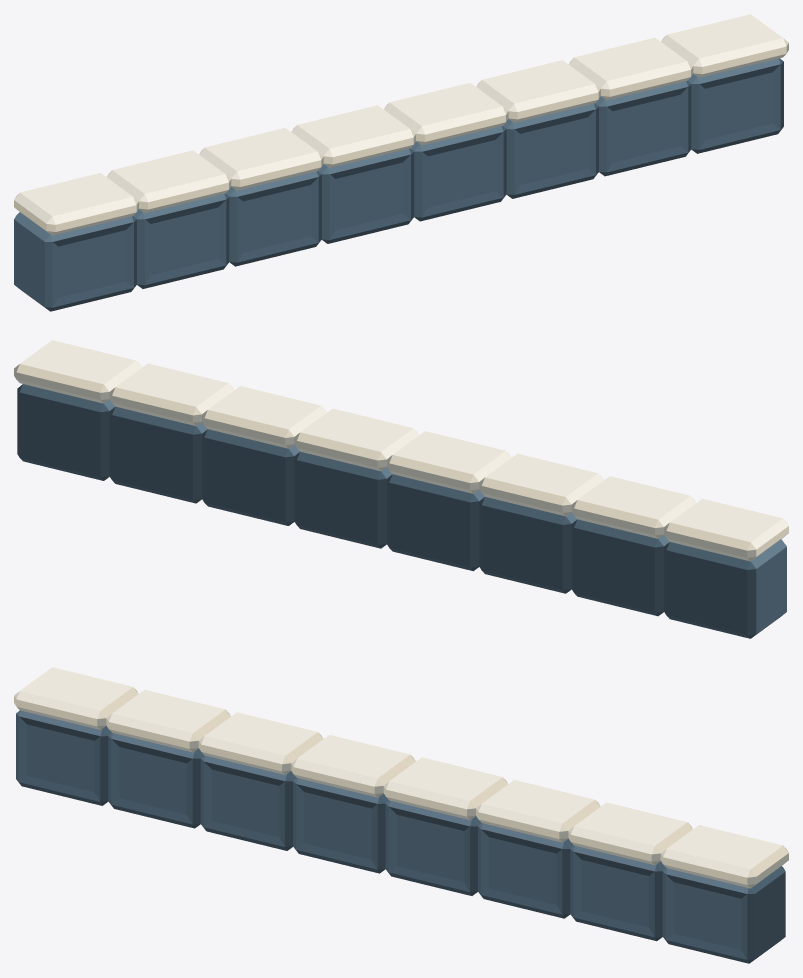
The model's file is Terrain_TopRun8R.gltf.
The picture shows the model from 3 angles, top to bottom: view 1: azimuth 30°, elevation 25°; view 2: azimuth 150°, elevation 25°; view 3: azimuth 330°, elevation 25°; orthographic projection.
Parts seen in each view (by area): view 1: Terrain_TopRun8R_baked; view 2: Terrain_TopRun8R_baked; view 3: Terrain_TopRun8R_baked.
Part boxes in pixels (<box>): Terrain_TopRun8R_baked: <box>14,14,788,311</box>; Terrain_TopRun8R_baked: <box>14,340,788,638</box>; Terrain_TopRun8R_baked: <box>14,667,788,963</box>.
Size of the model in its own units: 8.03 by 1 by 0.735.
